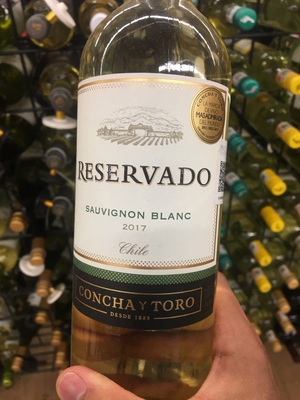reservado sauvignon blanc: (70, 14, 228, 400)
